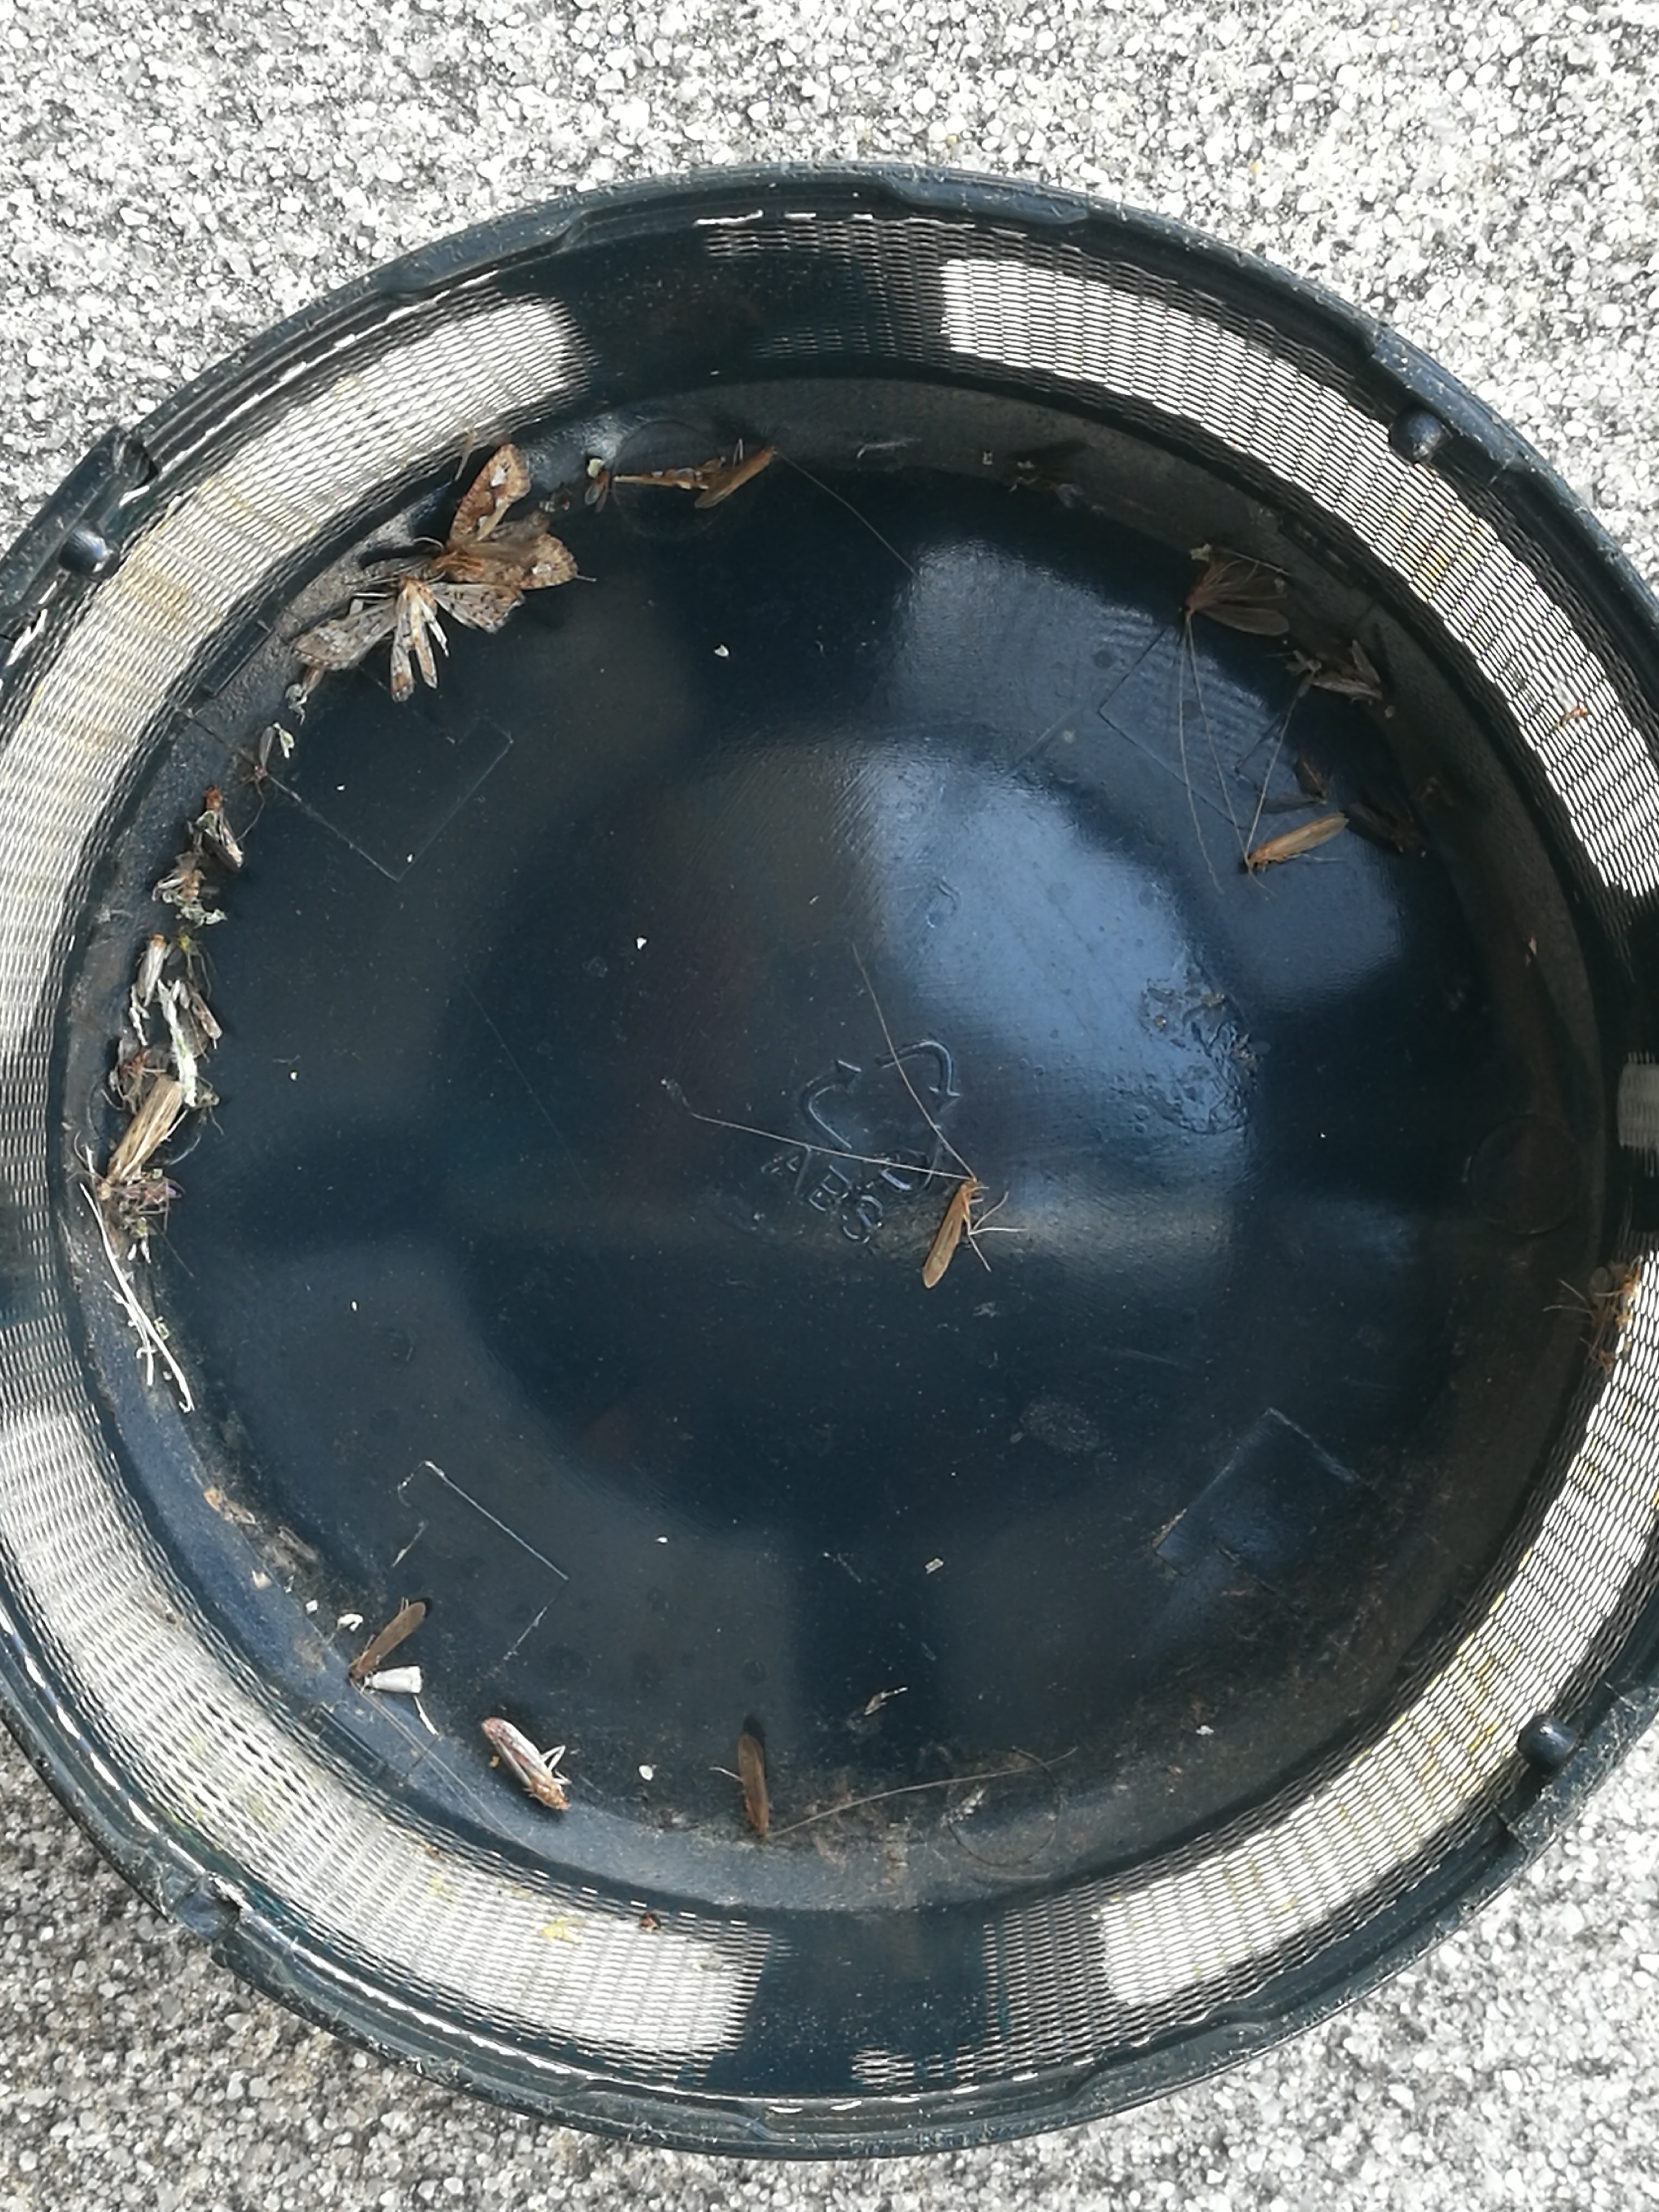mosquito: (94, 1076, 183, 1200), (481, 1717, 565, 1808), (922, 1177, 978, 1287), (349, 1601, 425, 1677), (1244, 815, 1345, 871), (692, 442, 775, 507), (739, 1733, 769, 1831), (138, 934, 166, 996), (362, 1665, 422, 1693)
moth: (289, 580, 526, 702), (432, 444, 577, 590), (1187, 557, 1290, 637), (1345, 786, 1420, 852), (1314, 641, 1385, 700), (171, 982, 221, 1059), (202, 824, 244, 869)
